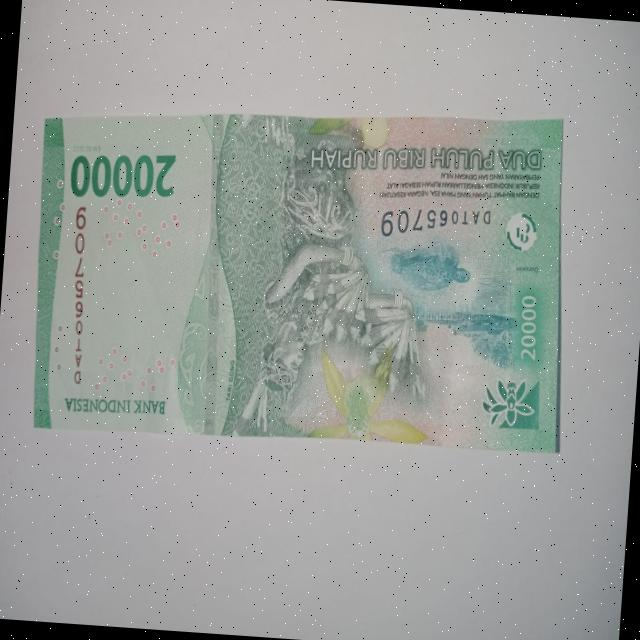20K: (9, 77, 586, 479)
